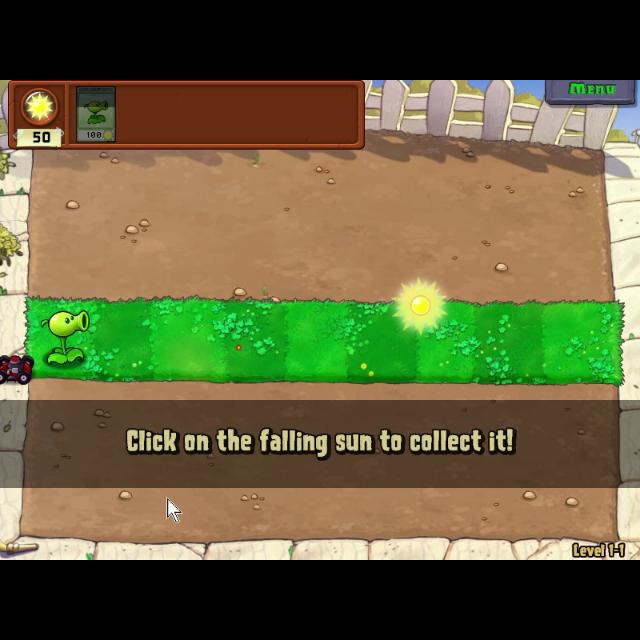Garden: (24, 295, 626, 387)
Menu Button: (542, 80, 636, 106)
Mower: (1, 346, 36, 386)
Peashooter: (78, 85, 116, 143)
Peashooter Seed: (37, 303, 97, 369)
Seed Panel: (8, 80, 364, 150)
Sun: (393, 277, 449, 333)
